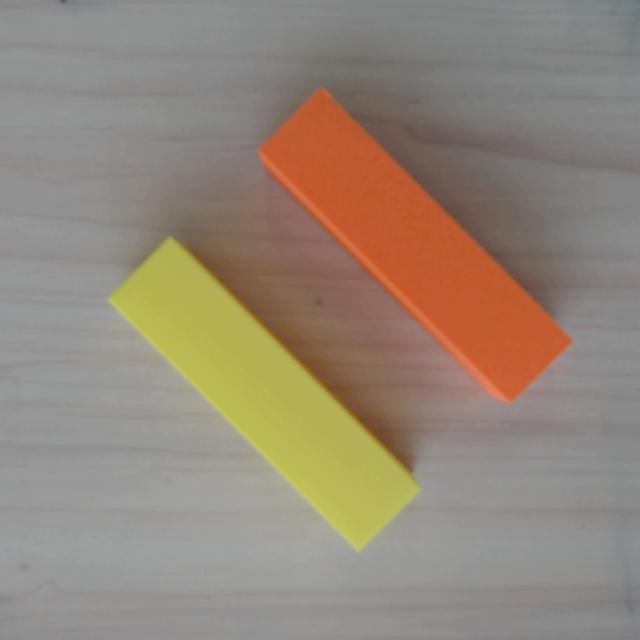Balok-Jingga-1002525: (252, 87, 575, 410)
Balok-Kuning-1002525: (106, 233, 425, 552)
